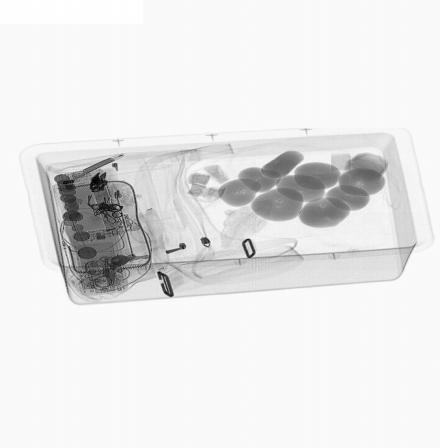Lighter: (87, 221, 141, 241)
